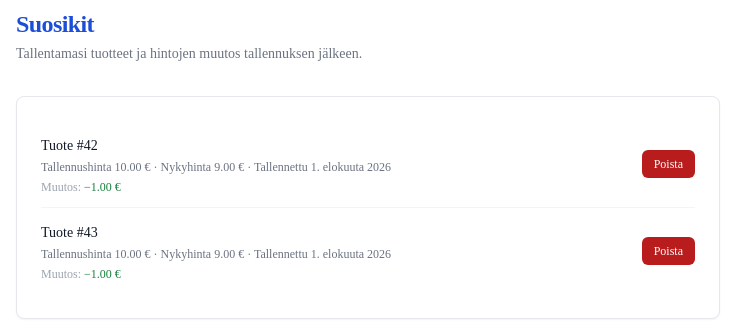
Test: FavoritesPage remove flow › removes a row via deleteFavorite and drops it from the list
Click the button "Poista" in the row of "Tuote #42" at (668, 164), box [642,150,695,178]
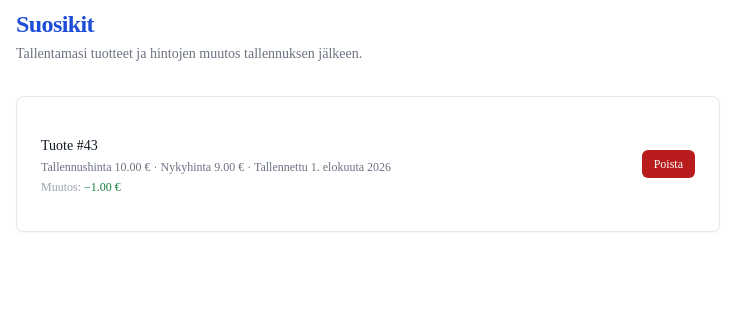
Expected: the link with test id "favorite-product-link-43" is shown, [41,138,98,153]
Expected: the number of list items with test id "favorite-row" is 1, [41,121,695,207]
